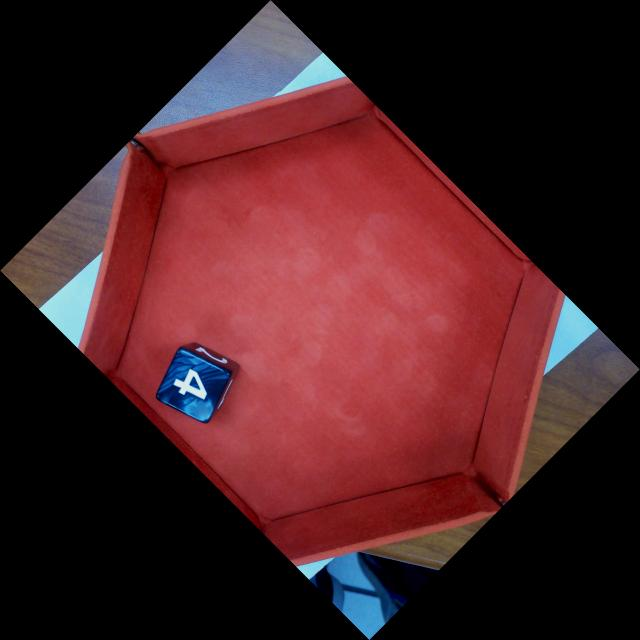dice: (153, 346, 233, 426)
